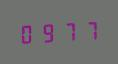nine: (38, 21, 57, 44)
seven: (58, 20, 77, 43), (78, 18, 97, 41)
zero: (18, 22, 37, 45)
